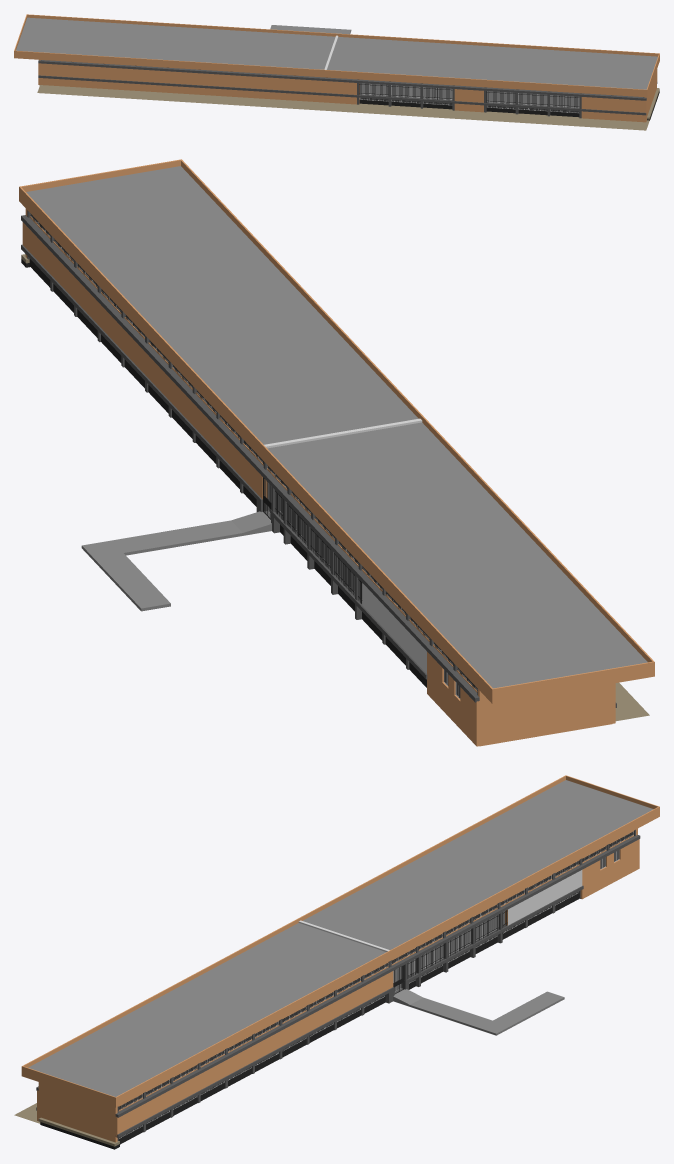
The model's file is Block_C.fbx.
3 views of the same model, one above another, from view 1: azimuth 30°, elevation 25°; view 2: azimuth 150°, elevation 25°; view 3: azimuth 270°, elevation 25° (orthographic). The views are drawn at different scales.
Visible parts, largest first — view 1: RoofBlockC, WindowShieldFront, BalconFront, WindowTopSupport, WindowSupport, WindowBottom, WindowFrontRight, WindowFrontLeft, PolesBlockC, WalkWay, WallsSide; view 2: RoofBlockC, WindowShieldBack, WallsSide, WindowTopSupport, WalkWay, WindowSupport, WindowBottom, WindowTop, PolesBlockC, WindowBackRight; view 3: RoofBlockC, WindowShieldBack, WindowTopSupport, WindowBottom, WindowTop, WallsSide, WalkWay, WindowSupport, PolesBlockC, WindowBackRight, Floor.
Boxes of the visible parts, <box> form: RoofBlockC: <box>14,14,659,97</box>; WindowShieldFront: <box>38,63,646,122</box>; BalconFront: <box>37,85,649,130</box>; WindowTopSupport: <box>38,60,646,100</box>; WindowSupport: <box>38,75,657,115</box>; WindowBottom: <box>359,97,579,117</box>; WindowFrontRight: <box>359,83,452,100</box>; WindowFrontLeft: <box>486,91,579,107</box>; PolesBlockC: <box>41,60,644,118</box>; WalkWay: <box>270,25,351,34</box>; WallsSide: <box>39,59,656,120</box>; RoofBlockC: <box>19,159,654,703</box>; WindowShieldBack: <box>22,222,479,746</box>; WallsSide: <box>25,208,612,746</box>; WindowTopSupport: <box>21,215,479,702</box>; WalkWay: <box>81,511,271,611</box>; WindowSupport: <box>21,244,616,707</box>; WindowBottom: <box>29,258,426,687</box>; WindowTop: <box>29,213,477,692</box>; PolesBlockC: <box>27,210,477,695</box>; WindowBackRight: <box>286,503,354,596</box>; RoofBlockC: <box>21,775,659,1107</box>; WindowShieldBack: <box>115,839,639,1136</box>; WindowTopSupport: <box>36,835,640,1117</box>; WindowBottom: <box>118,891,579,1143</box>; WindowTop: <box>118,831,633,1111</box>; WallsSide: <box>38,828,637,1142</box>; WalkWay: <box>393,988,564,1035</box>; WindowSupport: <box>36,885,583,1137</box>; PolesBlockC: <box>117,829,635,1140</box>; WindowBackRight: <box>421,914,499,971</box>; Floor: <box>38,899,578,1149</box>.
Size of the model in its own units: 6466 by 505 by 5474.
